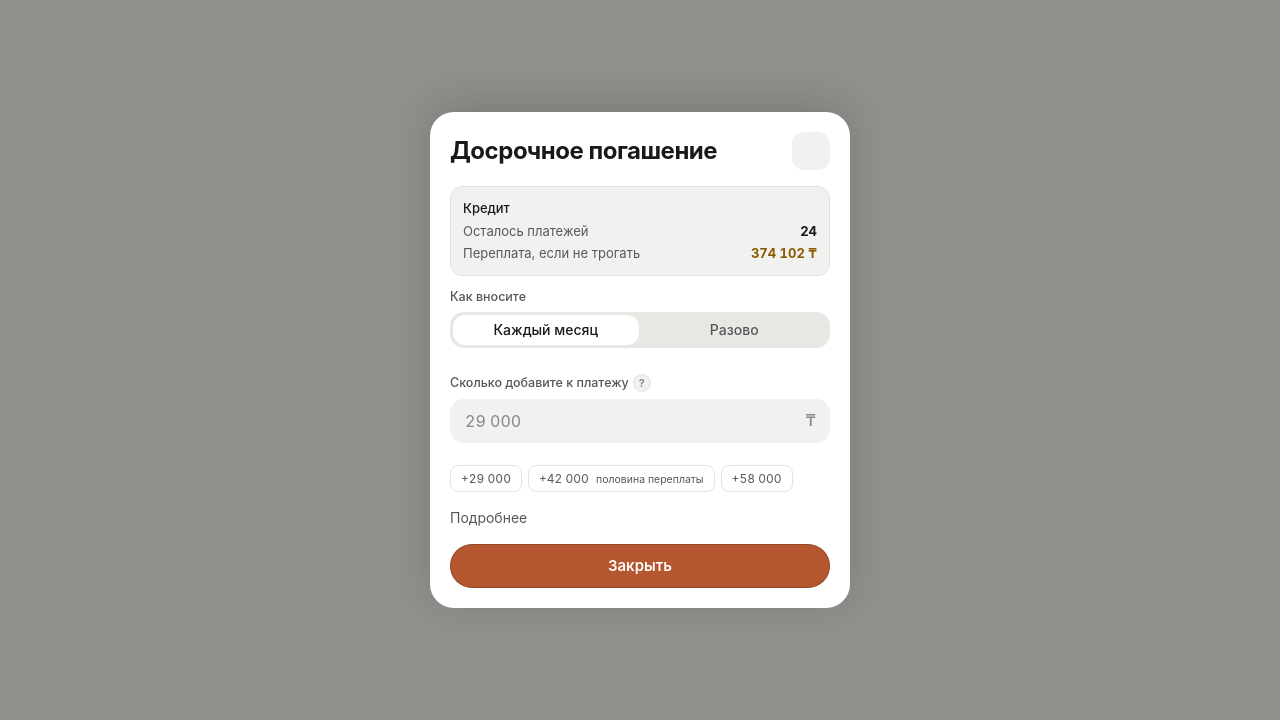
Test: FG-25: калькулятор досрочки › без суммы — итога нет, абзаца нет; у подписи поля — «?» с пояснением
The image size is (1280, 720).
What coordinates should you click on to do the following:
click the button named "Какую сумму вписать"
I would click on:
 (642, 384)
Its box is [633,374,651,392].
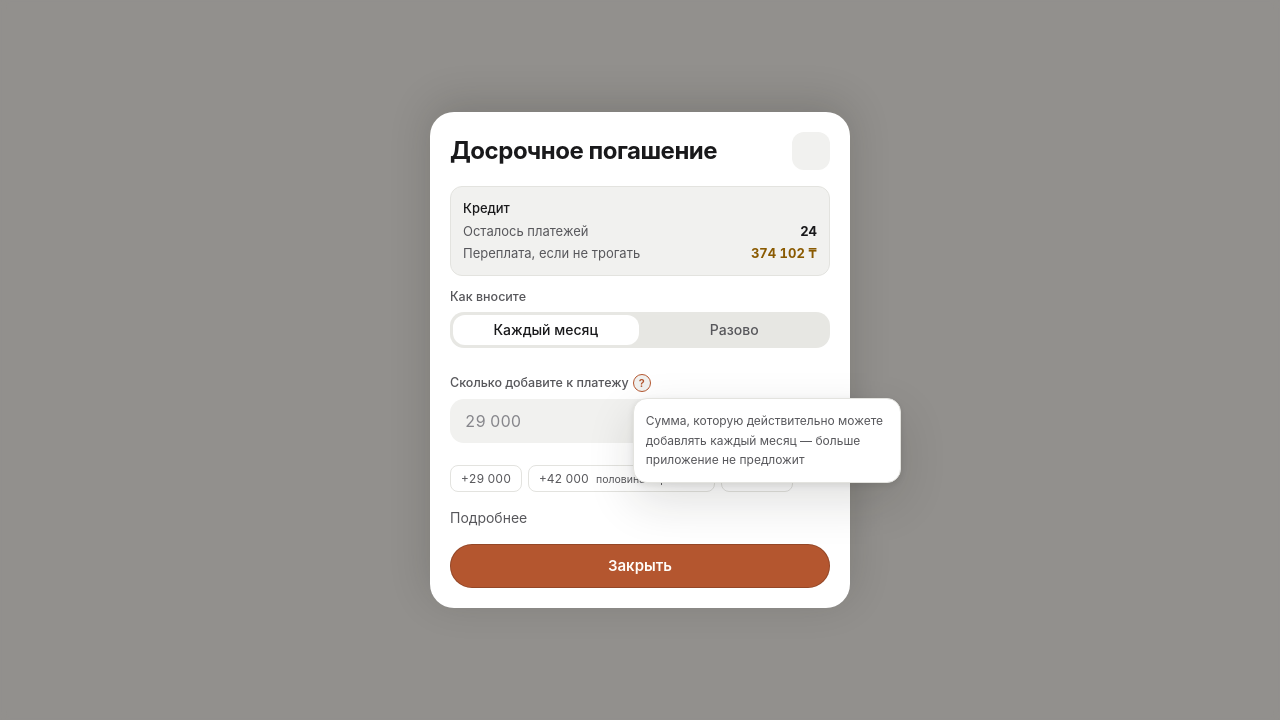
Expected: the text "Сумма, которую действительно можете добавлять каждый месяц — больше приложение не предложит" is shown, [646,414,883,468]
